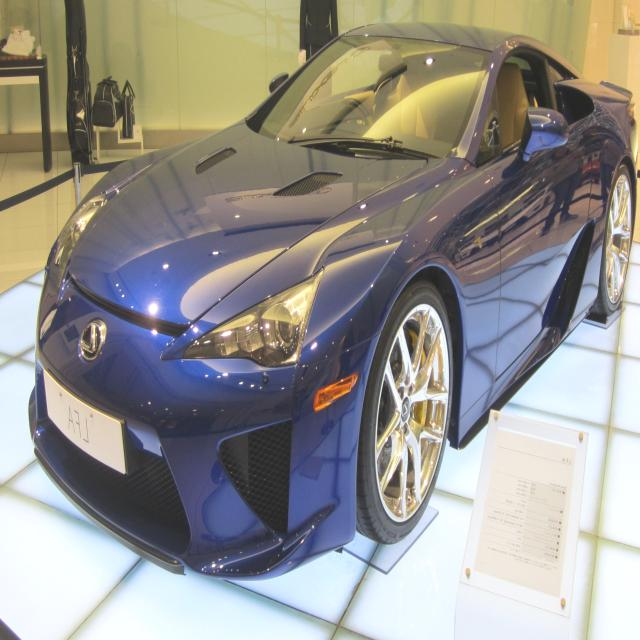blue: (21, 15, 640, 584)
